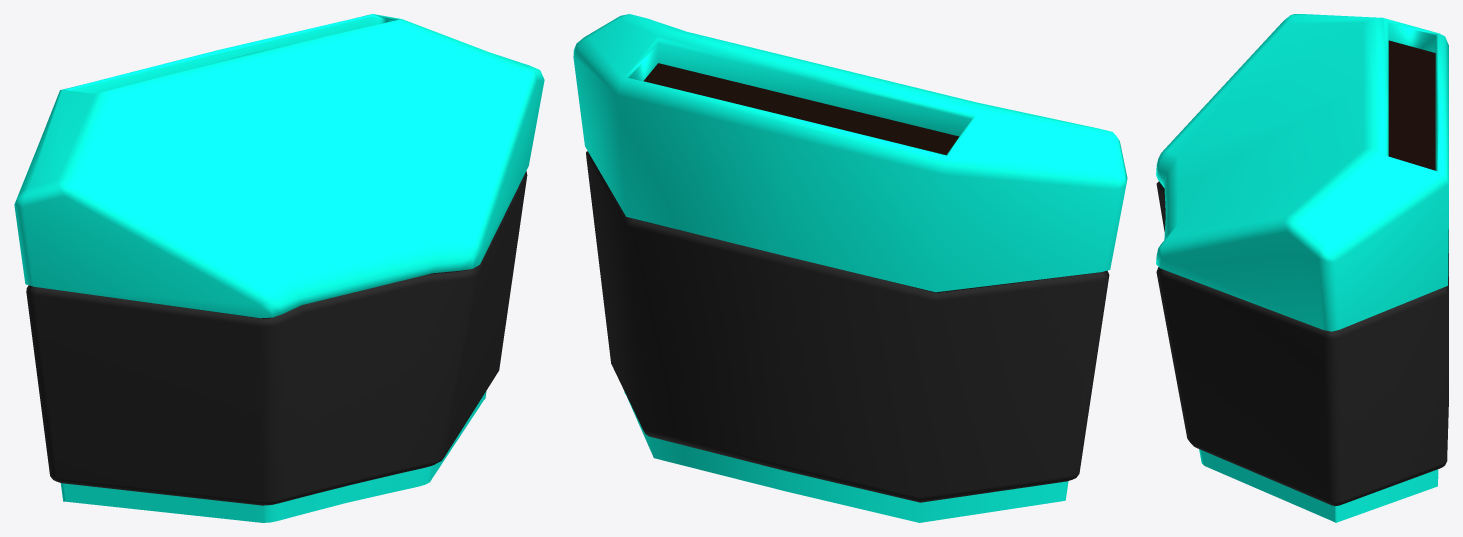
File: workstation.glb
The picture shows the model from 3 angles, left to right: view 1: azimuth 30°, elevation 25°; view 2: azimuth 150°, elevation 25°; view 3: azimuth 270°, elevation 25°; orthographic projection. The views are drawn at different scales.
Parts seen in each view (by area): view 1: Cube.036; view 2: Cube.036; view 3: Cube.036.
Part boxes in pixels (x1,y1,x2,y2): Cube.036: (14,14,544,522); Cube.036: (573,14,1127,522); Cube.036: (1156,14,1448,522).
Size of what is drawn, in the model's own units: 1.66 by 1.14 by 0.8718.
1 material, 1 textured.
